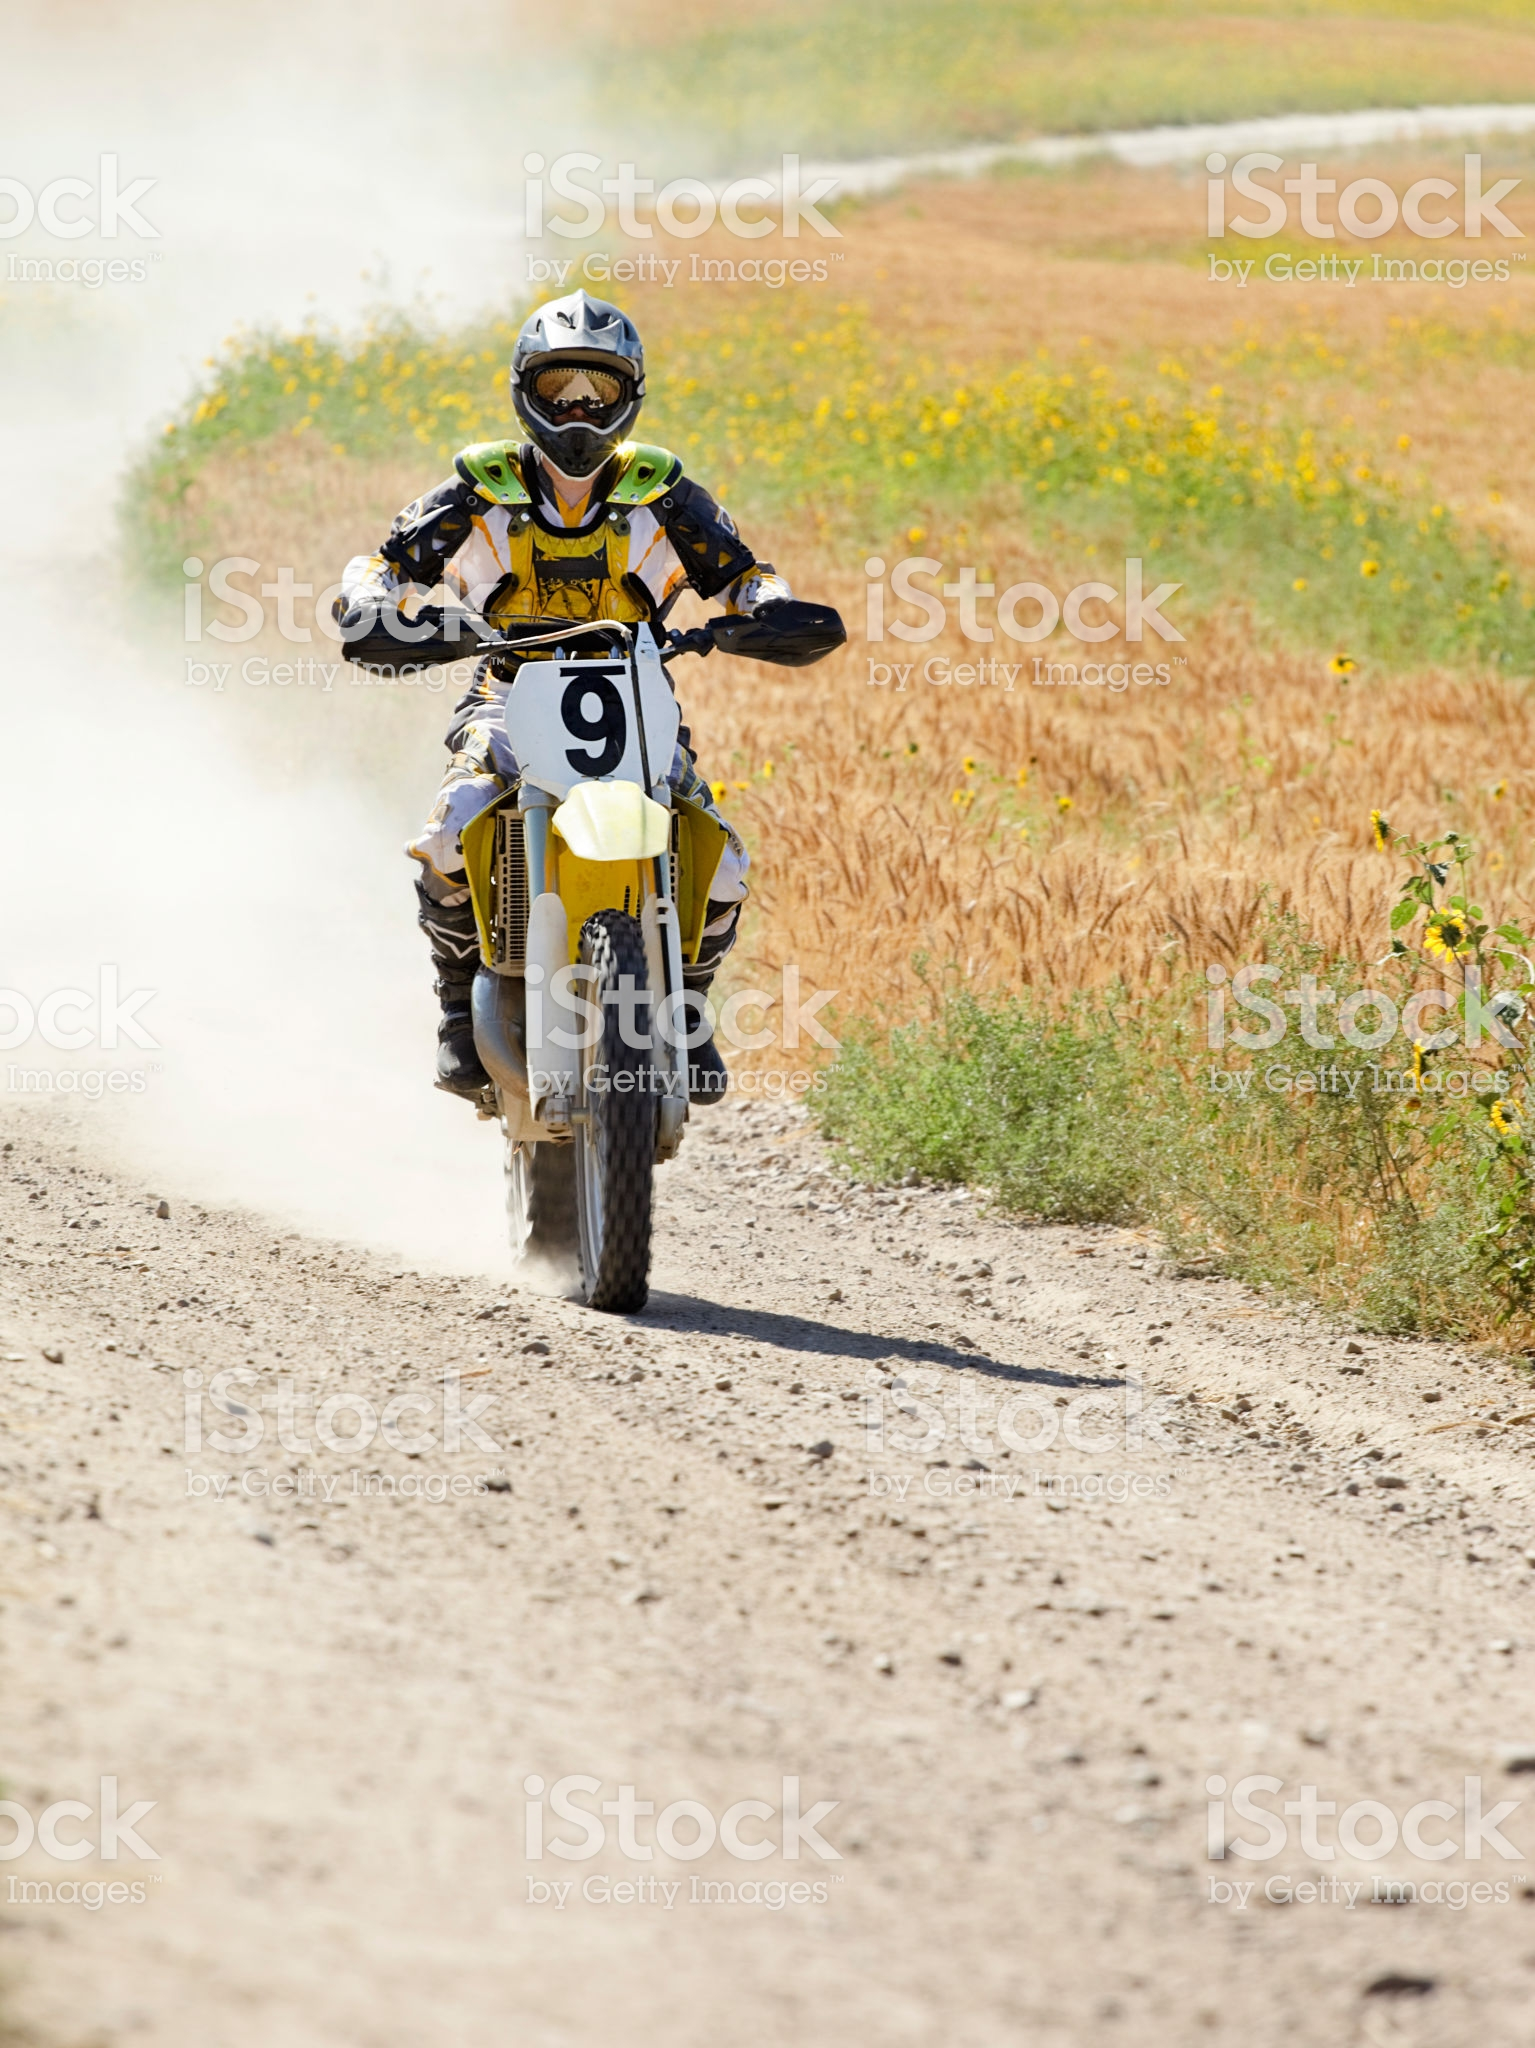helmet: (489, 273, 658, 489)
